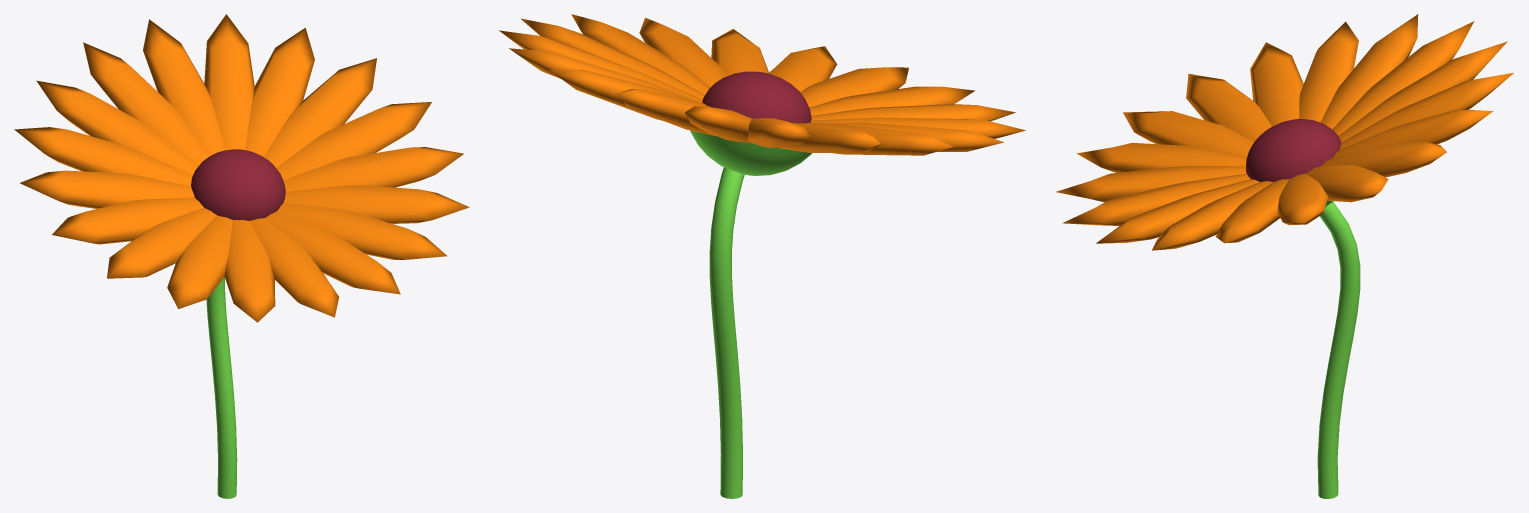
Rendered from Flower_6.fbx.
The picture shows the model from 3 angles, left to right: view 1: azimuth 30°, elevation 25°; view 2: azimuth 150°, elevation 25°; view 3: azimuth 270°, elevation 25°; orthographic projection. The views are drawn at different scales.
Parts seen in each view (by area): view 1: ベジエカーブ; view 2: ベジエカーブ; view 3: ベジエカーブ.
Boxes of the visible parts, left/top/right/bottom form: ベジエカーブ: left=14, top=14, right=469, bottom=498; ベジエカーブ: left=499, top=14, right=1025, bottom=498; ベジエカーブ: left=1056, top=14, right=1513, bottom=498.
Bounding box in the file's own units: 413 × 404 × 393.
